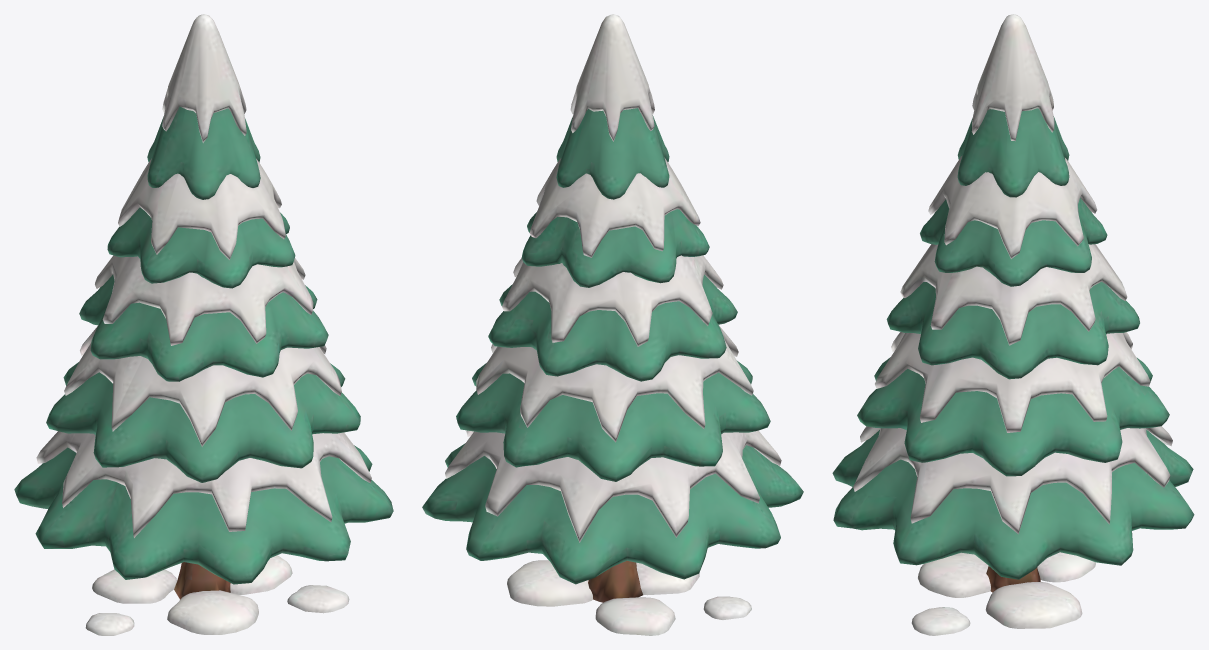
The model's file is snowy-pine-tree.glb.
3 views of the same model, side by side, from view 1: azimuth 30°, elevation 25°; view 2: azimuth 150°, elevation 25°; view 3: azimuth 270°, elevation 25° (orthographic).
Visible parts, largest first — view 1: snowy-pine-tree_body; view 2: snowy-pine-tree_body; view 3: snowy-pine-tree_body.
Part boxes in pixels (x1,y1,x2,y2): snowy-pine-tree_body: [14, 14, 393, 635]; snowy-pine-tree_body: [422, 14, 803, 635]; snowy-pine-tree_body: [832, 14, 1194, 635].
Size of the model in its own units: 3.45 by 5.76 by 3.3.
Materials: 1 (1 with a texture image).
